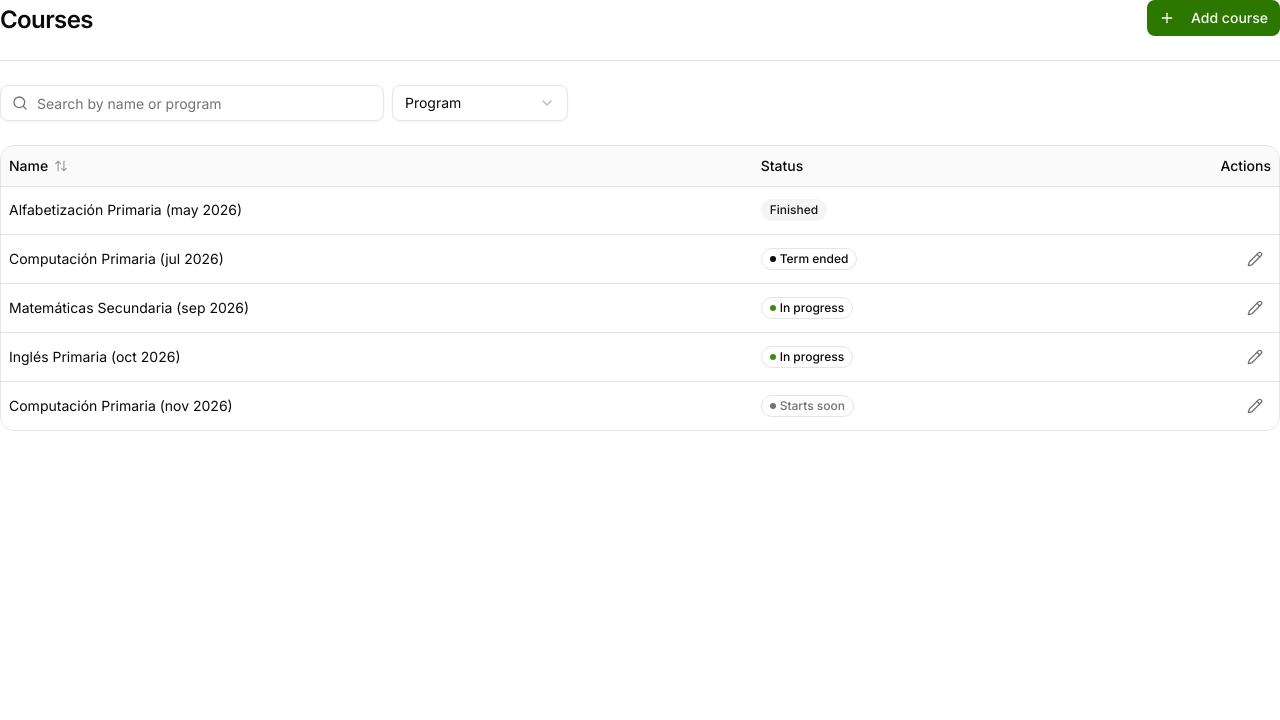
<CoursesListPage /> › lets a teacher save an edit to their own live course end to end
The image size is (1280, 720).
Click the button named "Edit Computación Primaria — Linda Vista (jul 2026)".
click(1255, 258)  # box [1239, 242, 1271, 274]
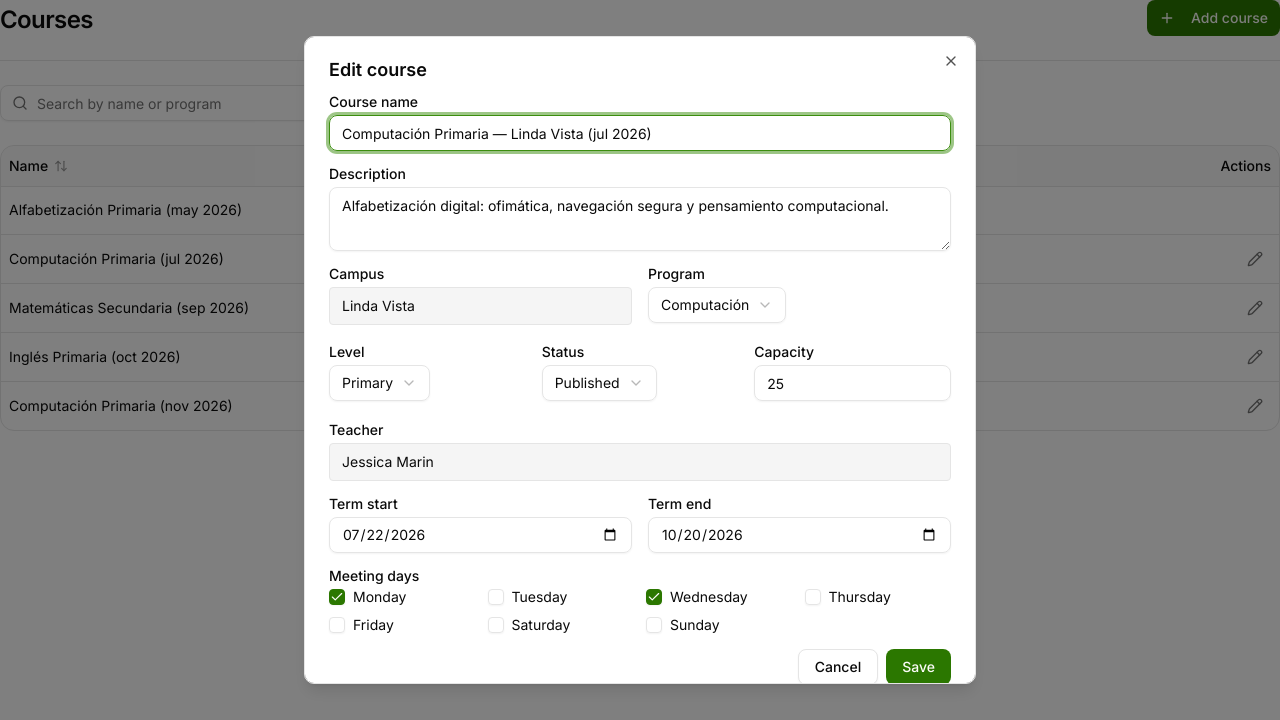
expect the text box labelled "Description" holds "Alfabetización digital: ofimática, navegación segura y pensamiento computacional.": met
Replace the text in the text box labelled "Description" with "Updated by its teacher" at [640, 219], box [329, 187, 951, 251]
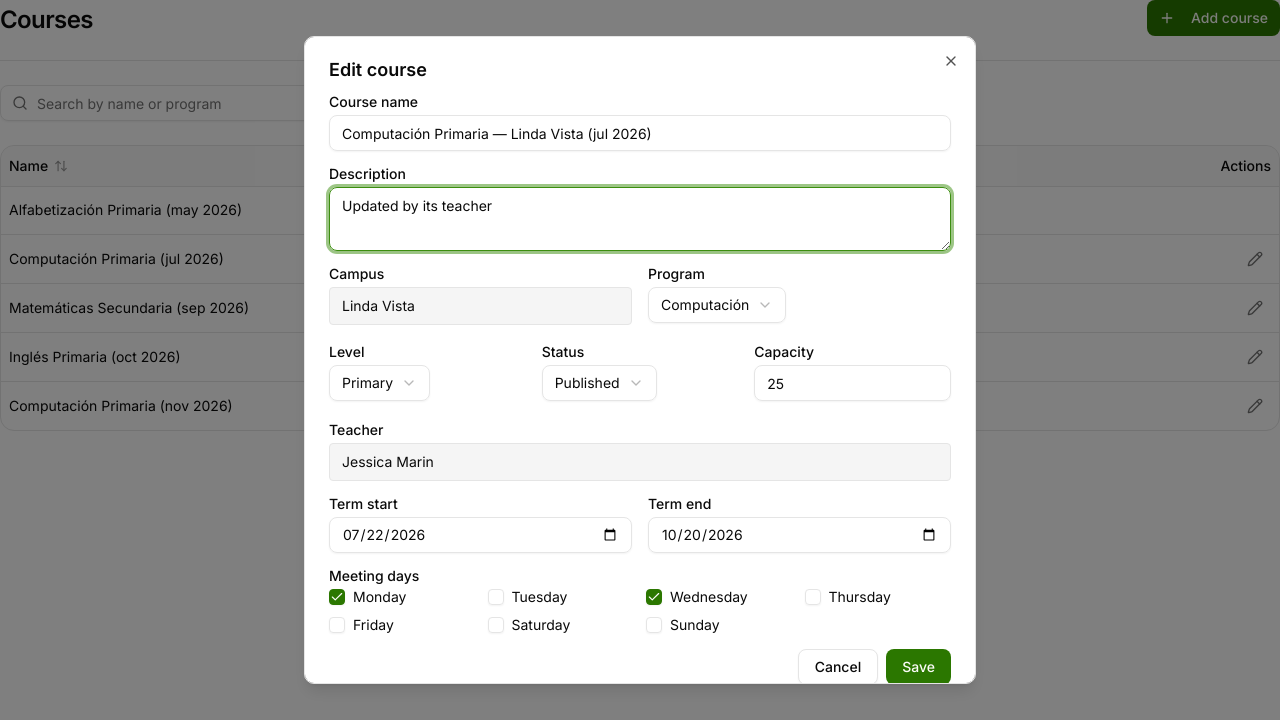
Click the button "Save".
click(919, 667)  # box [886, 649, 951, 685]
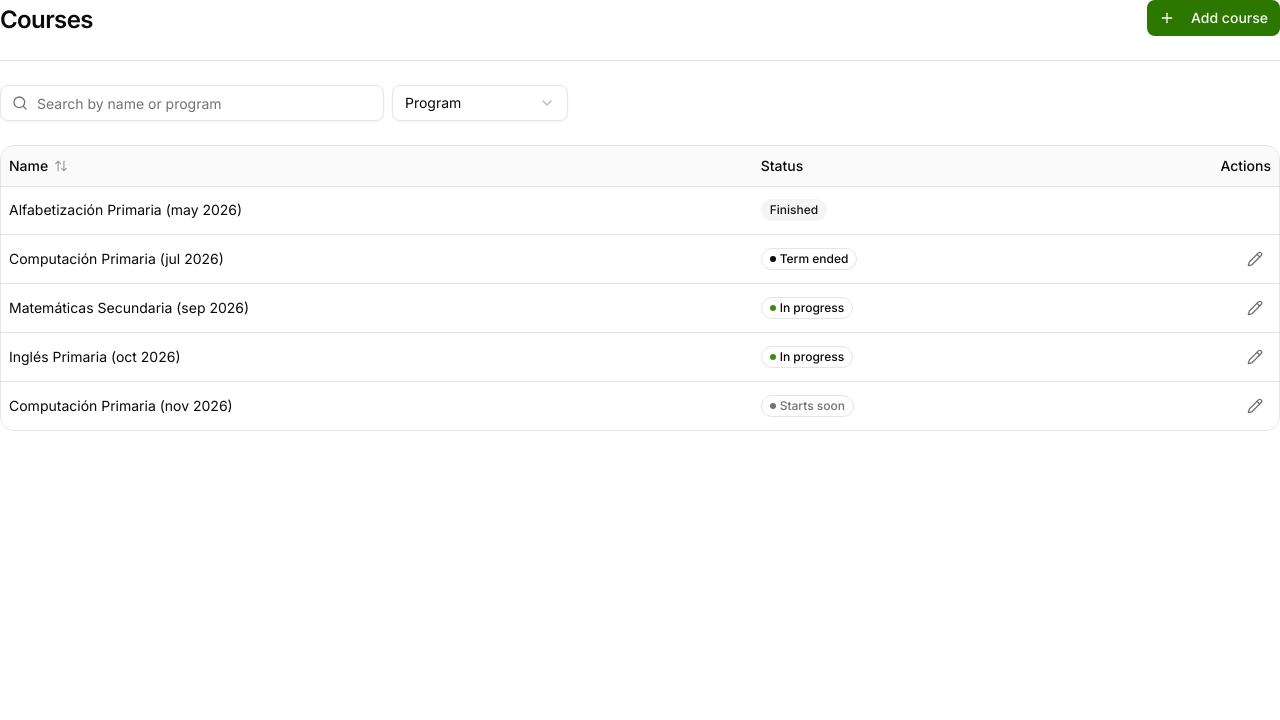
expect the dialog is gone: met
